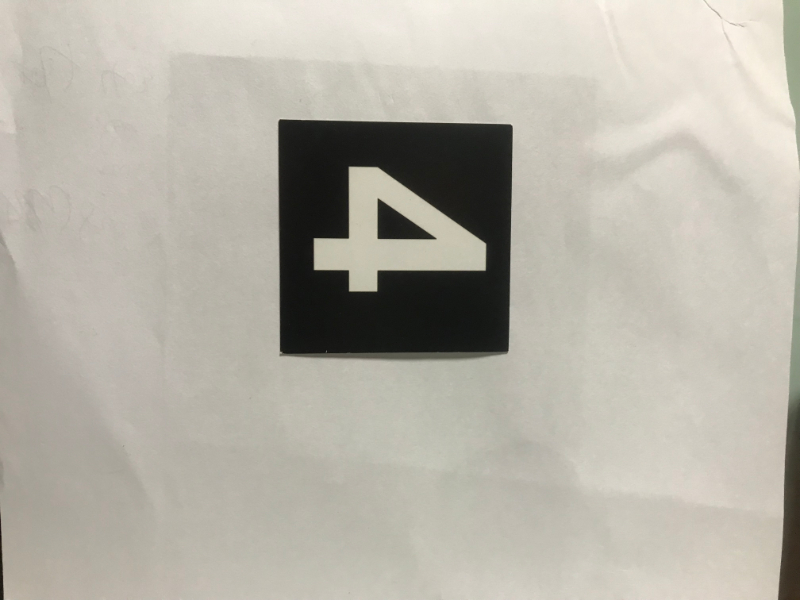Four-9: (284, 127, 506, 346)
